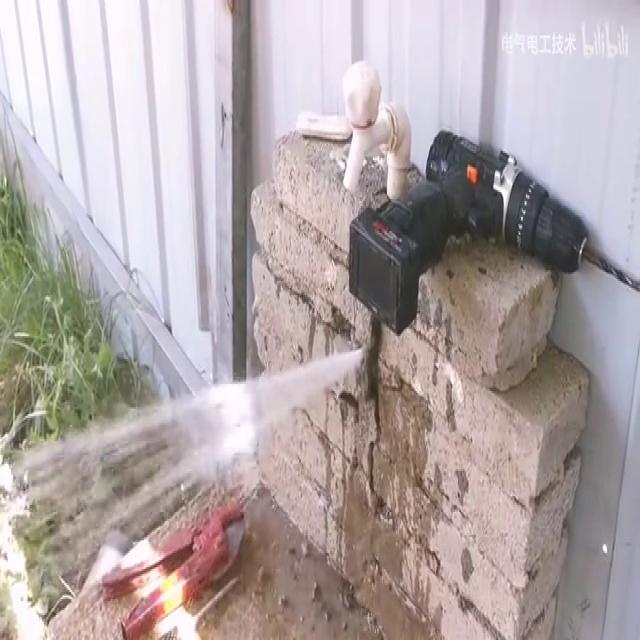leak: (0, 348, 365, 640)
